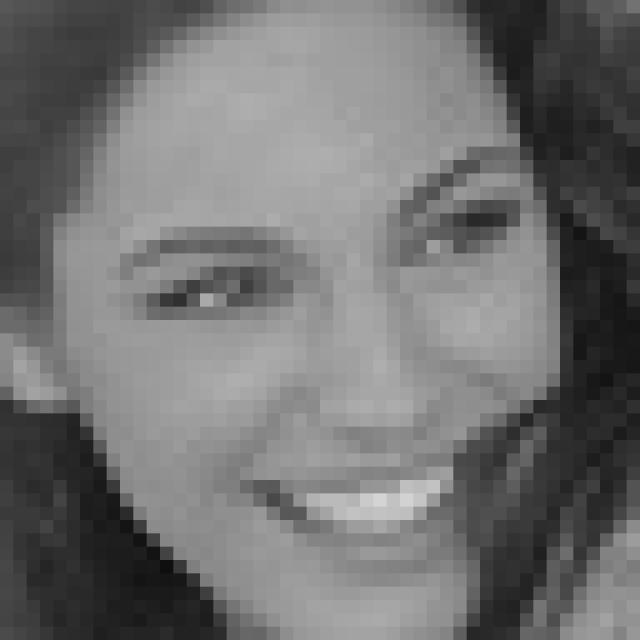happy: (112, 134, 523, 586)
